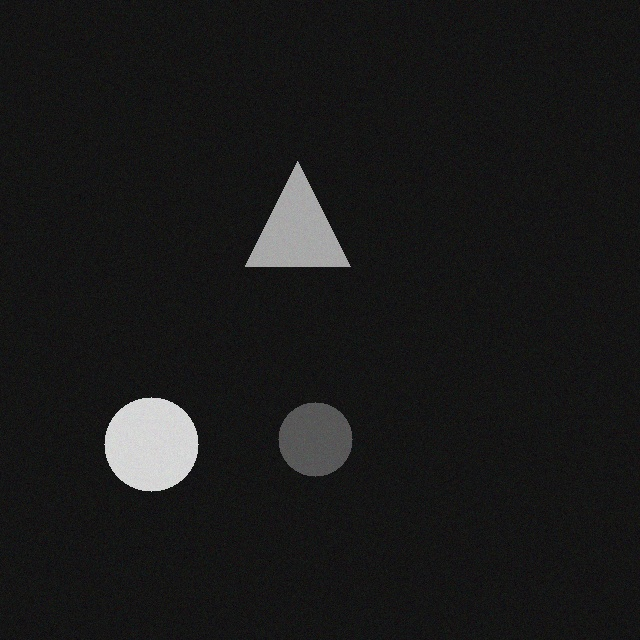circle: (89, 391, 183, 485), (263, 396, 337, 470)
triangle: (230, 155, 335, 260)
